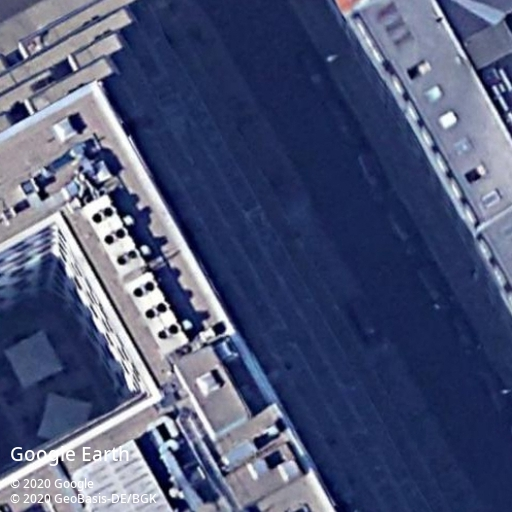Chiller: (79, 193, 148, 279), (125, 271, 189, 355)
